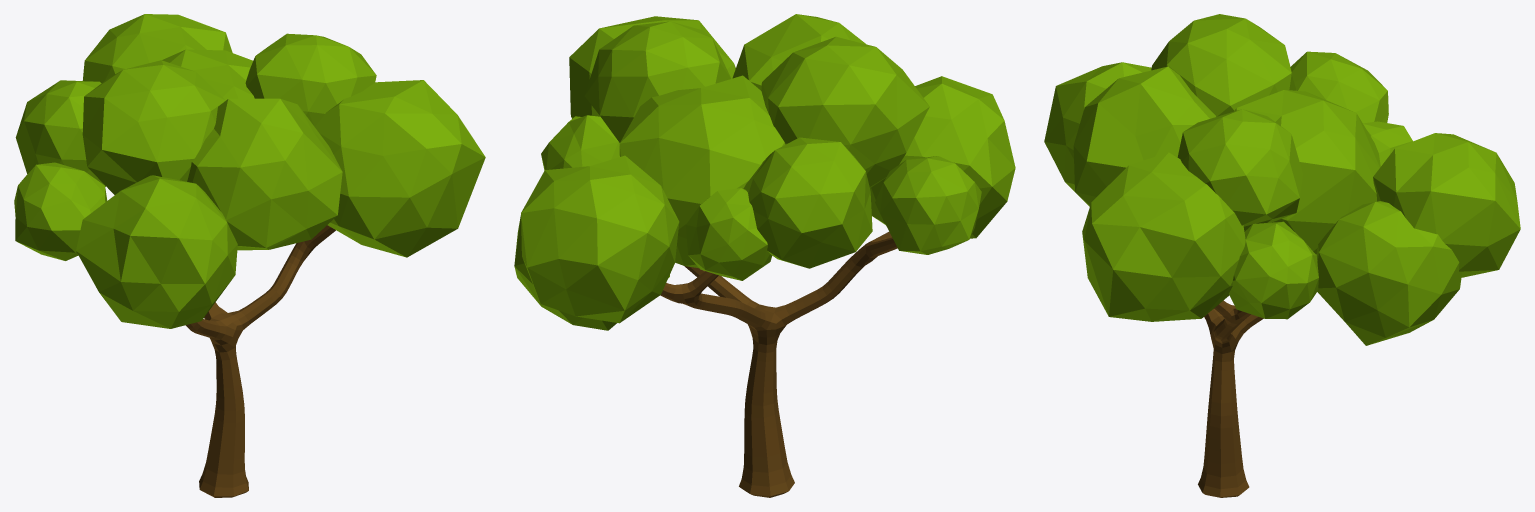
Rendered from Branched Tree.fbx.
The picture shows the model from 3 angles, left to right: view 1: azimuth 30°, elevation 25°; view 2: azimuth 150°, elevation 25°; view 3: azimuth 270°, elevation 25°; orthographic projection. The views are drawn at different scales.
Parts seen in each view (by area): view 1: Plane; view 2: Plane; view 3: Plane.
Part boxes in pixels (<box>): Plane: <box>14,14,485,497</box>; Plane: <box>514,14,1015,497</box>; Plane: <box>1044,14,1520,497</box>.
Bounding box in the file's own units: 957 × 988 × 985.
